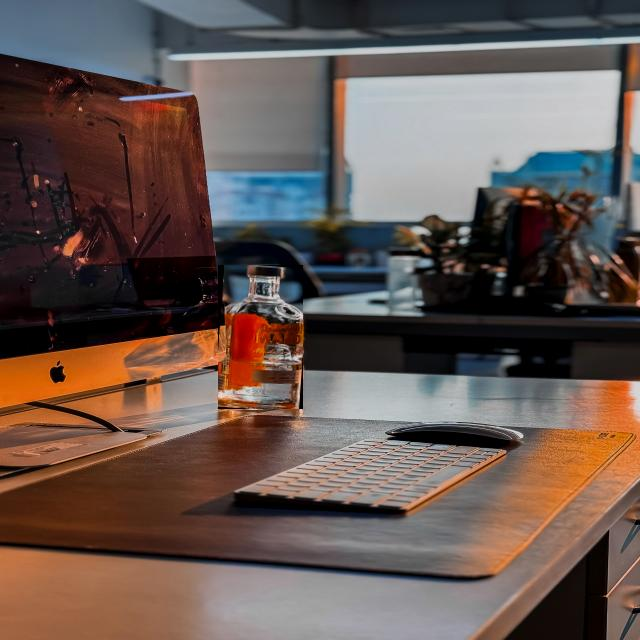Bottle: (219, 266, 303, 408)
